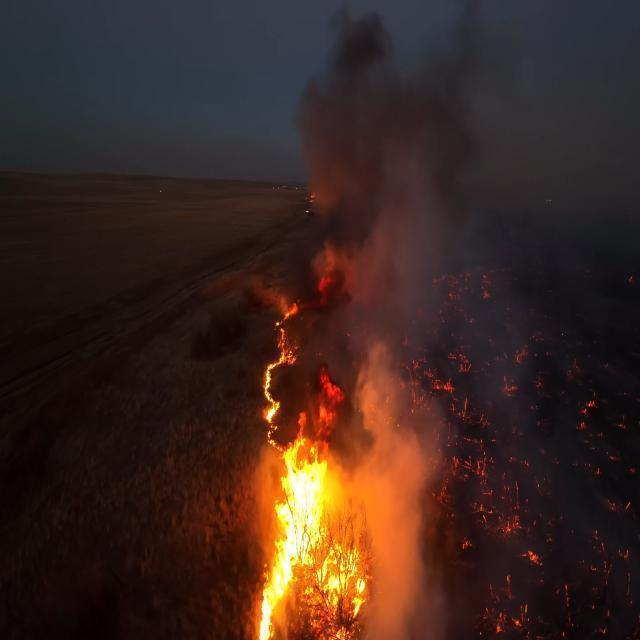Smoke: (304, 18, 442, 203), (362, 403, 420, 563), (283, 439, 333, 539)
